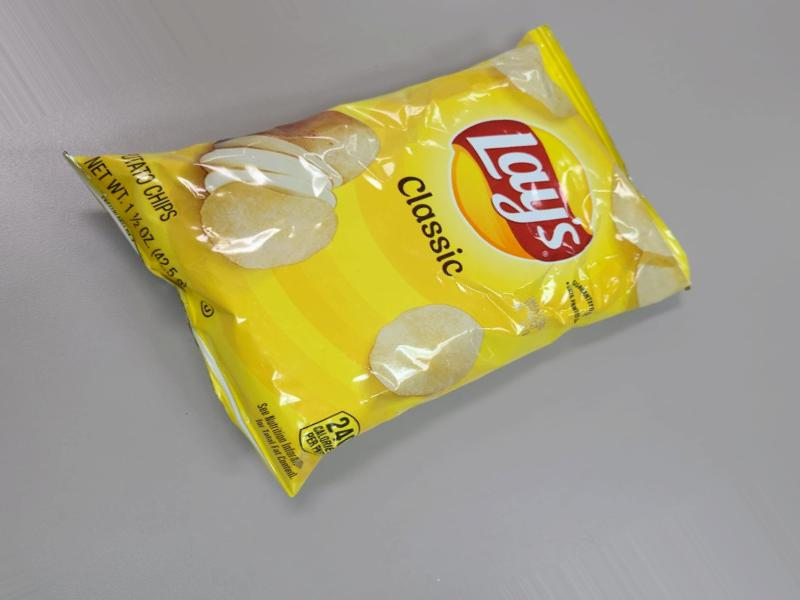lays: (107, 0, 763, 500)
